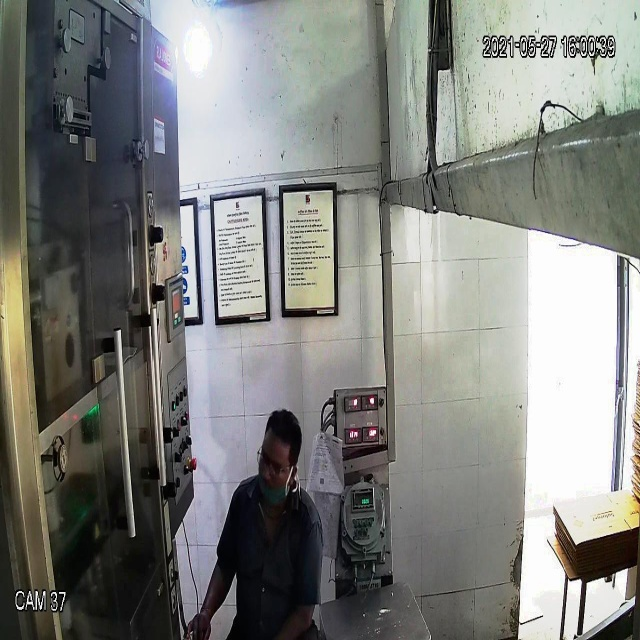Gafas: (256, 444, 293, 478)
